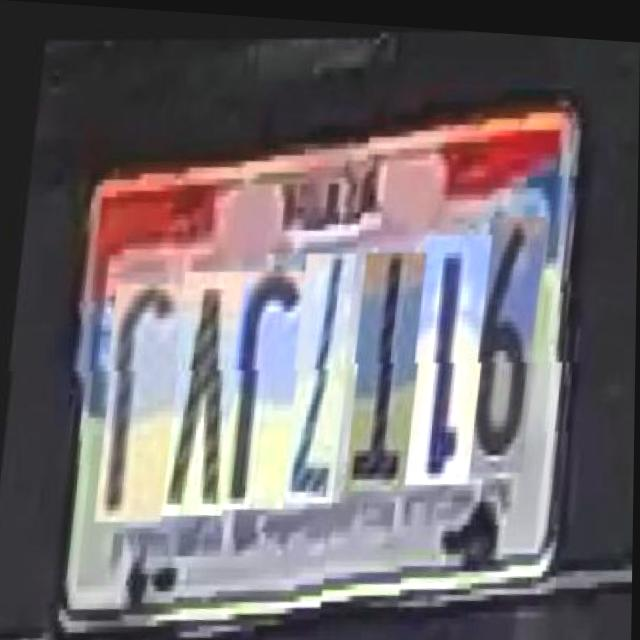1: (395, 220, 483, 480)
7: (278, 232, 349, 491)
9: (459, 203, 538, 467)
j: (210, 250, 298, 498), (89, 262, 177, 510)
t: (338, 239, 418, 485)
v: (157, 251, 239, 504)
